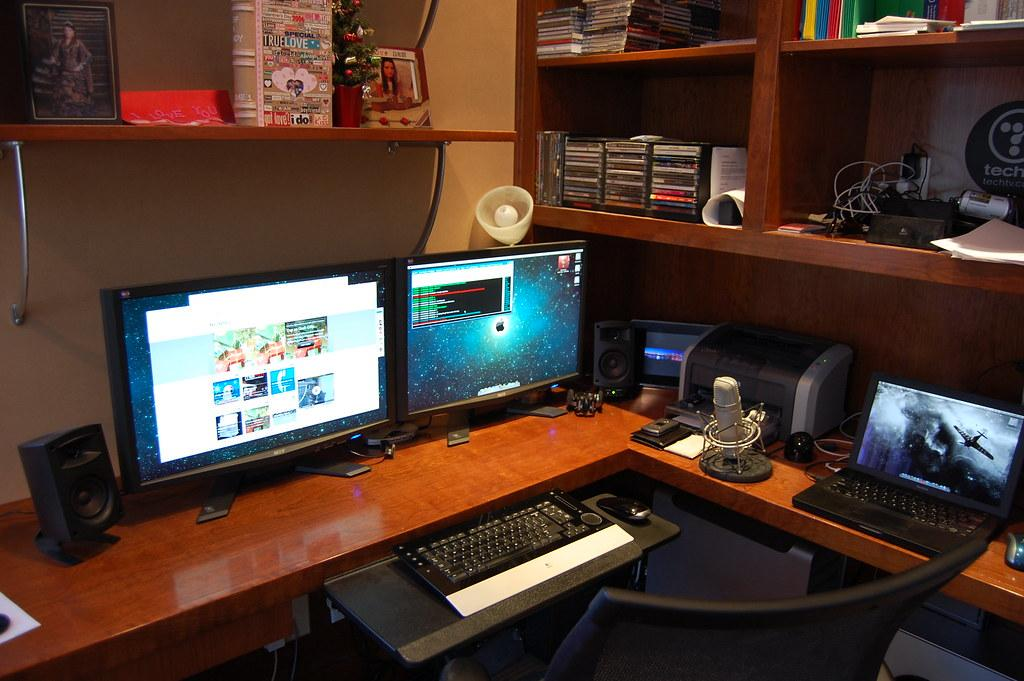computer: (100, 257, 397, 523), (395, 239, 589, 444)
